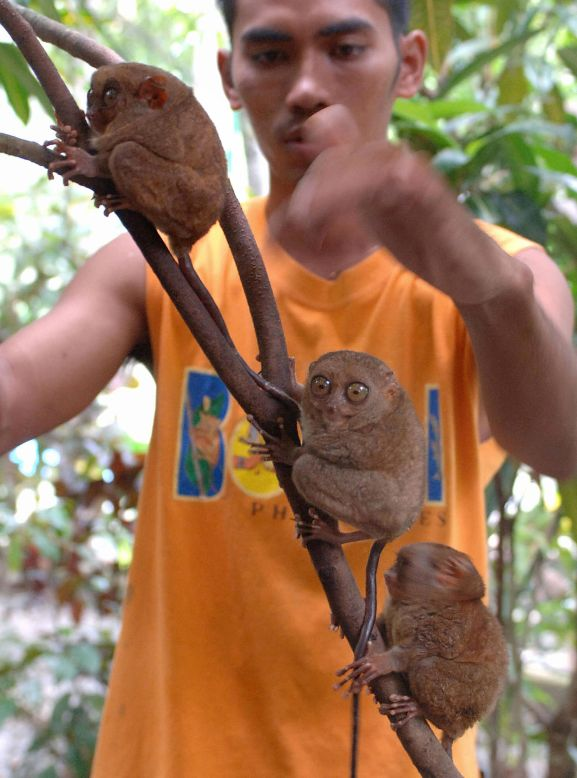tarsier: (41, 52, 236, 275), (373, 548, 530, 739), (264, 350, 421, 536)
